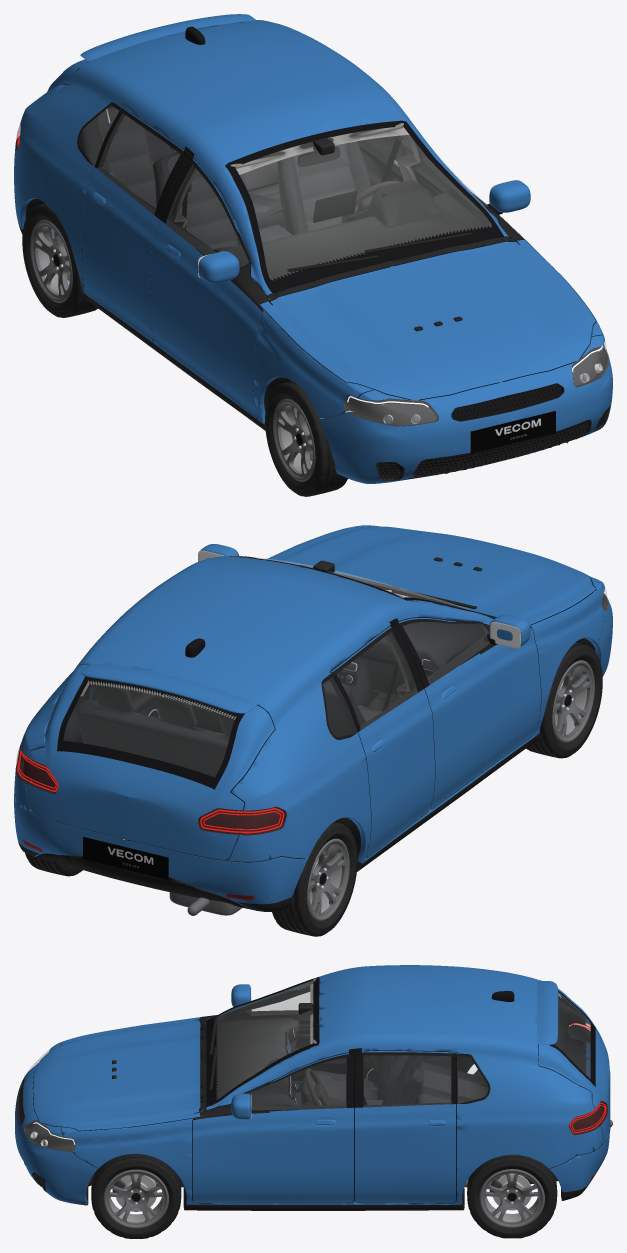
Rendered from kleinwagen.glb.
3 renders of one model, top to bottom at view 1: azimuth 30°, elevation 25°; view 2: azimuth 150°, elevation 25°; view 3: azimuth 270°, elevation 25°, orthographic. The views are drawn at different scales.
Parts seen in each view (by area): view 1: karosserie, haube, frontscheibe, tuer_v_l, stoss_v, tuer_h_l, innen_armatur, innen_ruecksitz, innen_sitz_fahrer, reifen_v_l, innen_sitz_beifahrer, reifen_h_l (+19 smaller); view 2: karosserie, klappe, haube, tuer_v_l, tuer_h_l, stoss_h, innen_ruecksitz, innen_armatur, reifen_h_l, klappe_spoiler, reifen_v_l, boden (+17 smaller); view 3: karosserie, tuer_v_r, haube, tuer_h_r, frontscheibe, innen_armatur, klappe, stoss_v, reifen_v_r, reifen_h_r, felge_v_r, felge_h_r (+22 smaller).
Part boxes in pixels (left/top/right/bottom): karosserie: left=14, top=20, right=605, bottom=430; haube: left=259, top=239, right=596, bottom=400; frontscheibe: left=225, top=120, right=503, bottom=292; tuer_v_l: left=149, top=155, right=268, bottom=416; stoss_v: left=319, top=335, right=612, bottom=483; tuer_h_l: left=81, top=105, right=190, bottom=339; innen_armatur: left=213, top=180, right=488, bottom=332; innen_ruecksitz: left=79, top=105, right=284, bottom=229; innen_sitz_fahrer: left=277, top=141, right=373, bottom=234; reifen_v_l: left=265, top=381, right=347, bottom=496; innen_sitz_beifahrer: left=152, top=146, right=287, bottom=335; reifen_h_l: left=22, top=203, right=97, bottom=317; karosserie: left=14, top=525, right=605, bottom=871; klappe: left=26, top=664, right=274, bottom=859; haube: left=266, top=526, right=596, bottom=625; tuer_v_l: left=394, top=617, right=540, bottom=808; tuer_h_l: left=329, top=623, right=434, bottom=857; stoss_h: left=14, top=798, right=308, bottom=911; innen_ruecksitz: left=76, top=683, right=264, bottom=809; innen_armatur: left=327, top=599, right=488, bottom=707; reifen_h_l: left=272, top=821, right=357, bottom=936; klappe_spoiler: left=80, top=664, right=256, bottom=713; reifen_v_l: left=526, top=642, right=602, bottom=758; boden: left=36, top=839, right=252, bottom=909; karosserie: left=61, top=965, right=604, bottom=1210; tuer_v_r: left=193, top=1052, right=354, bottom=1202; haube: left=33, top=1017, right=200, bottom=1131; tuer_h_r: left=354, top=1051, right=456, bottom=1203; frontscheibe: left=206, top=977, right=318, bottom=1106; innen_armatur: left=216, top=1017, right=299, bottom=1105; klappe: left=538, top=980, right=610, bottom=1141; stoss_v: left=15, top=1042, right=97, bottom=1205; reifen_v_r: left=91, top=1154, right=181, bottom=1238; reifen_h_r: left=467, top=1155, right=557, bottom=1238; felge_v_r: left=103, top=1169, right=168, bottom=1228; felge_h_r: left=479, top=1169, right=544, bottom=1228.
Size of the model in its own units: 1.98 by 1.47 by 4.1.
55 materials, 8 textured.
